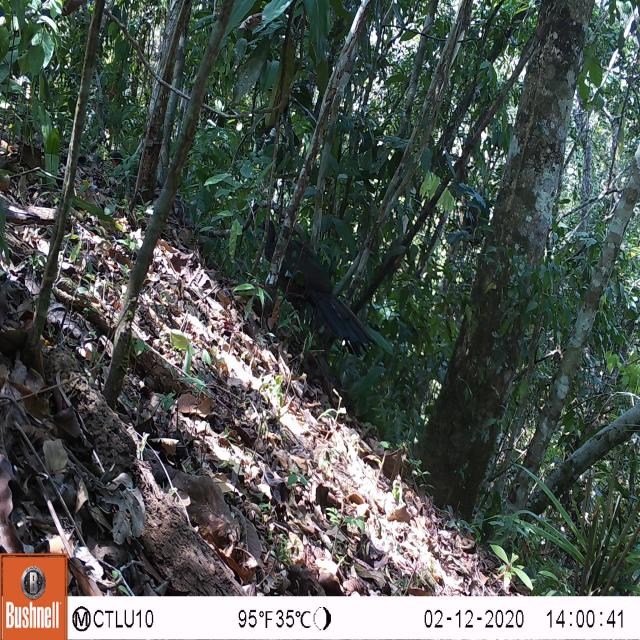Spixs Guan: (250, 206, 369, 364)
